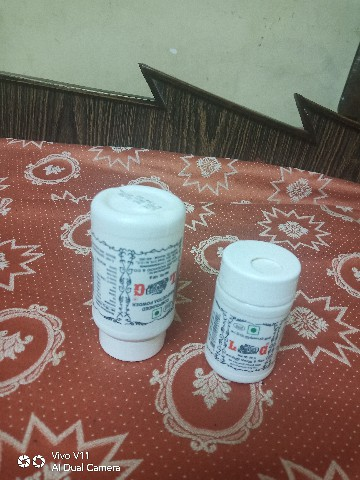lgasafoetidapowder large: (75, 136, 189, 371)
lgasafoetidapowder small: (198, 230, 307, 396)
